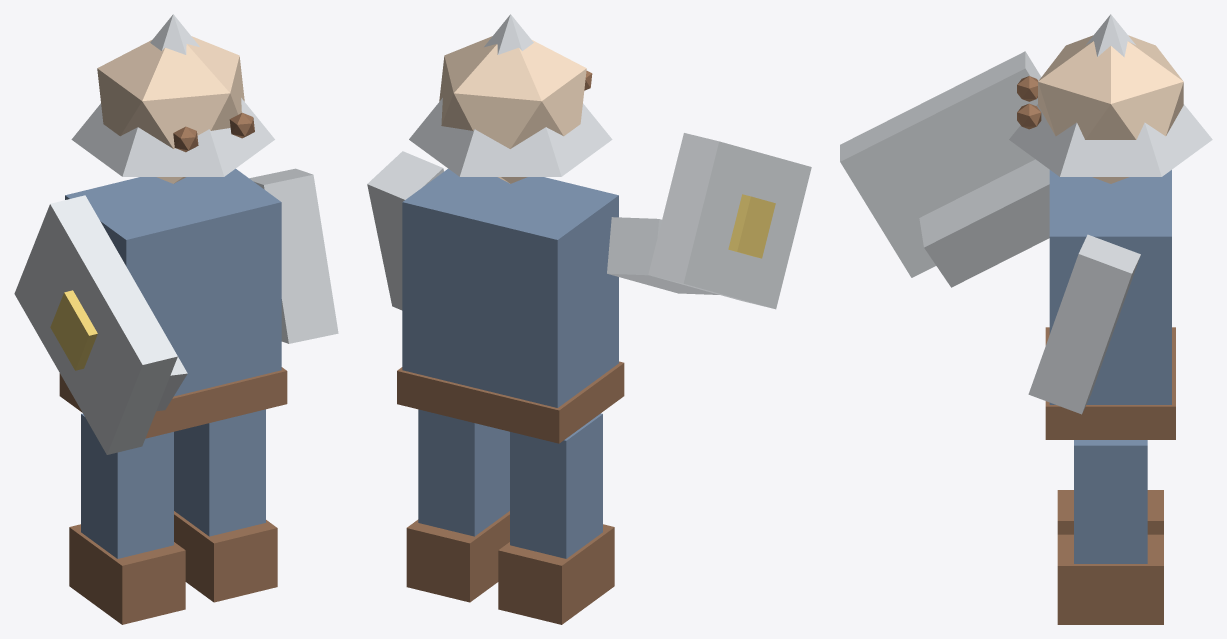
Rendered from npcpose_guard_walk_06.glb.
The picture shows the model from 3 angles, left to right: view 1: azimuth 30°, elevation 25°; view 2: azimuth 150°, elevation 25°; view 3: azimuth 270°, elevation 25°; orthographic projection.
Parts seen in each view (by area): view 1: npcpose; view 2: npcpose; view 3: npcpose.
Boxes of the visible parts, box(x1,y1,x2,y2) form: npcpose: box(14, 14, 338, 624); npcpose: box(367, 14, 811, 624); npcpose: box(840, 14, 1212, 624).
Bounding box in the file's own units: 0.8715 × 1.55 × 0.9136.
